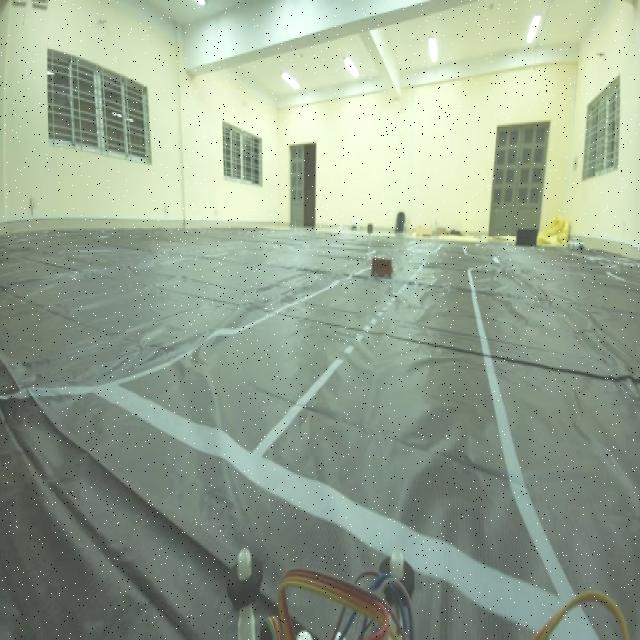roadblock: (369, 253, 397, 282)
